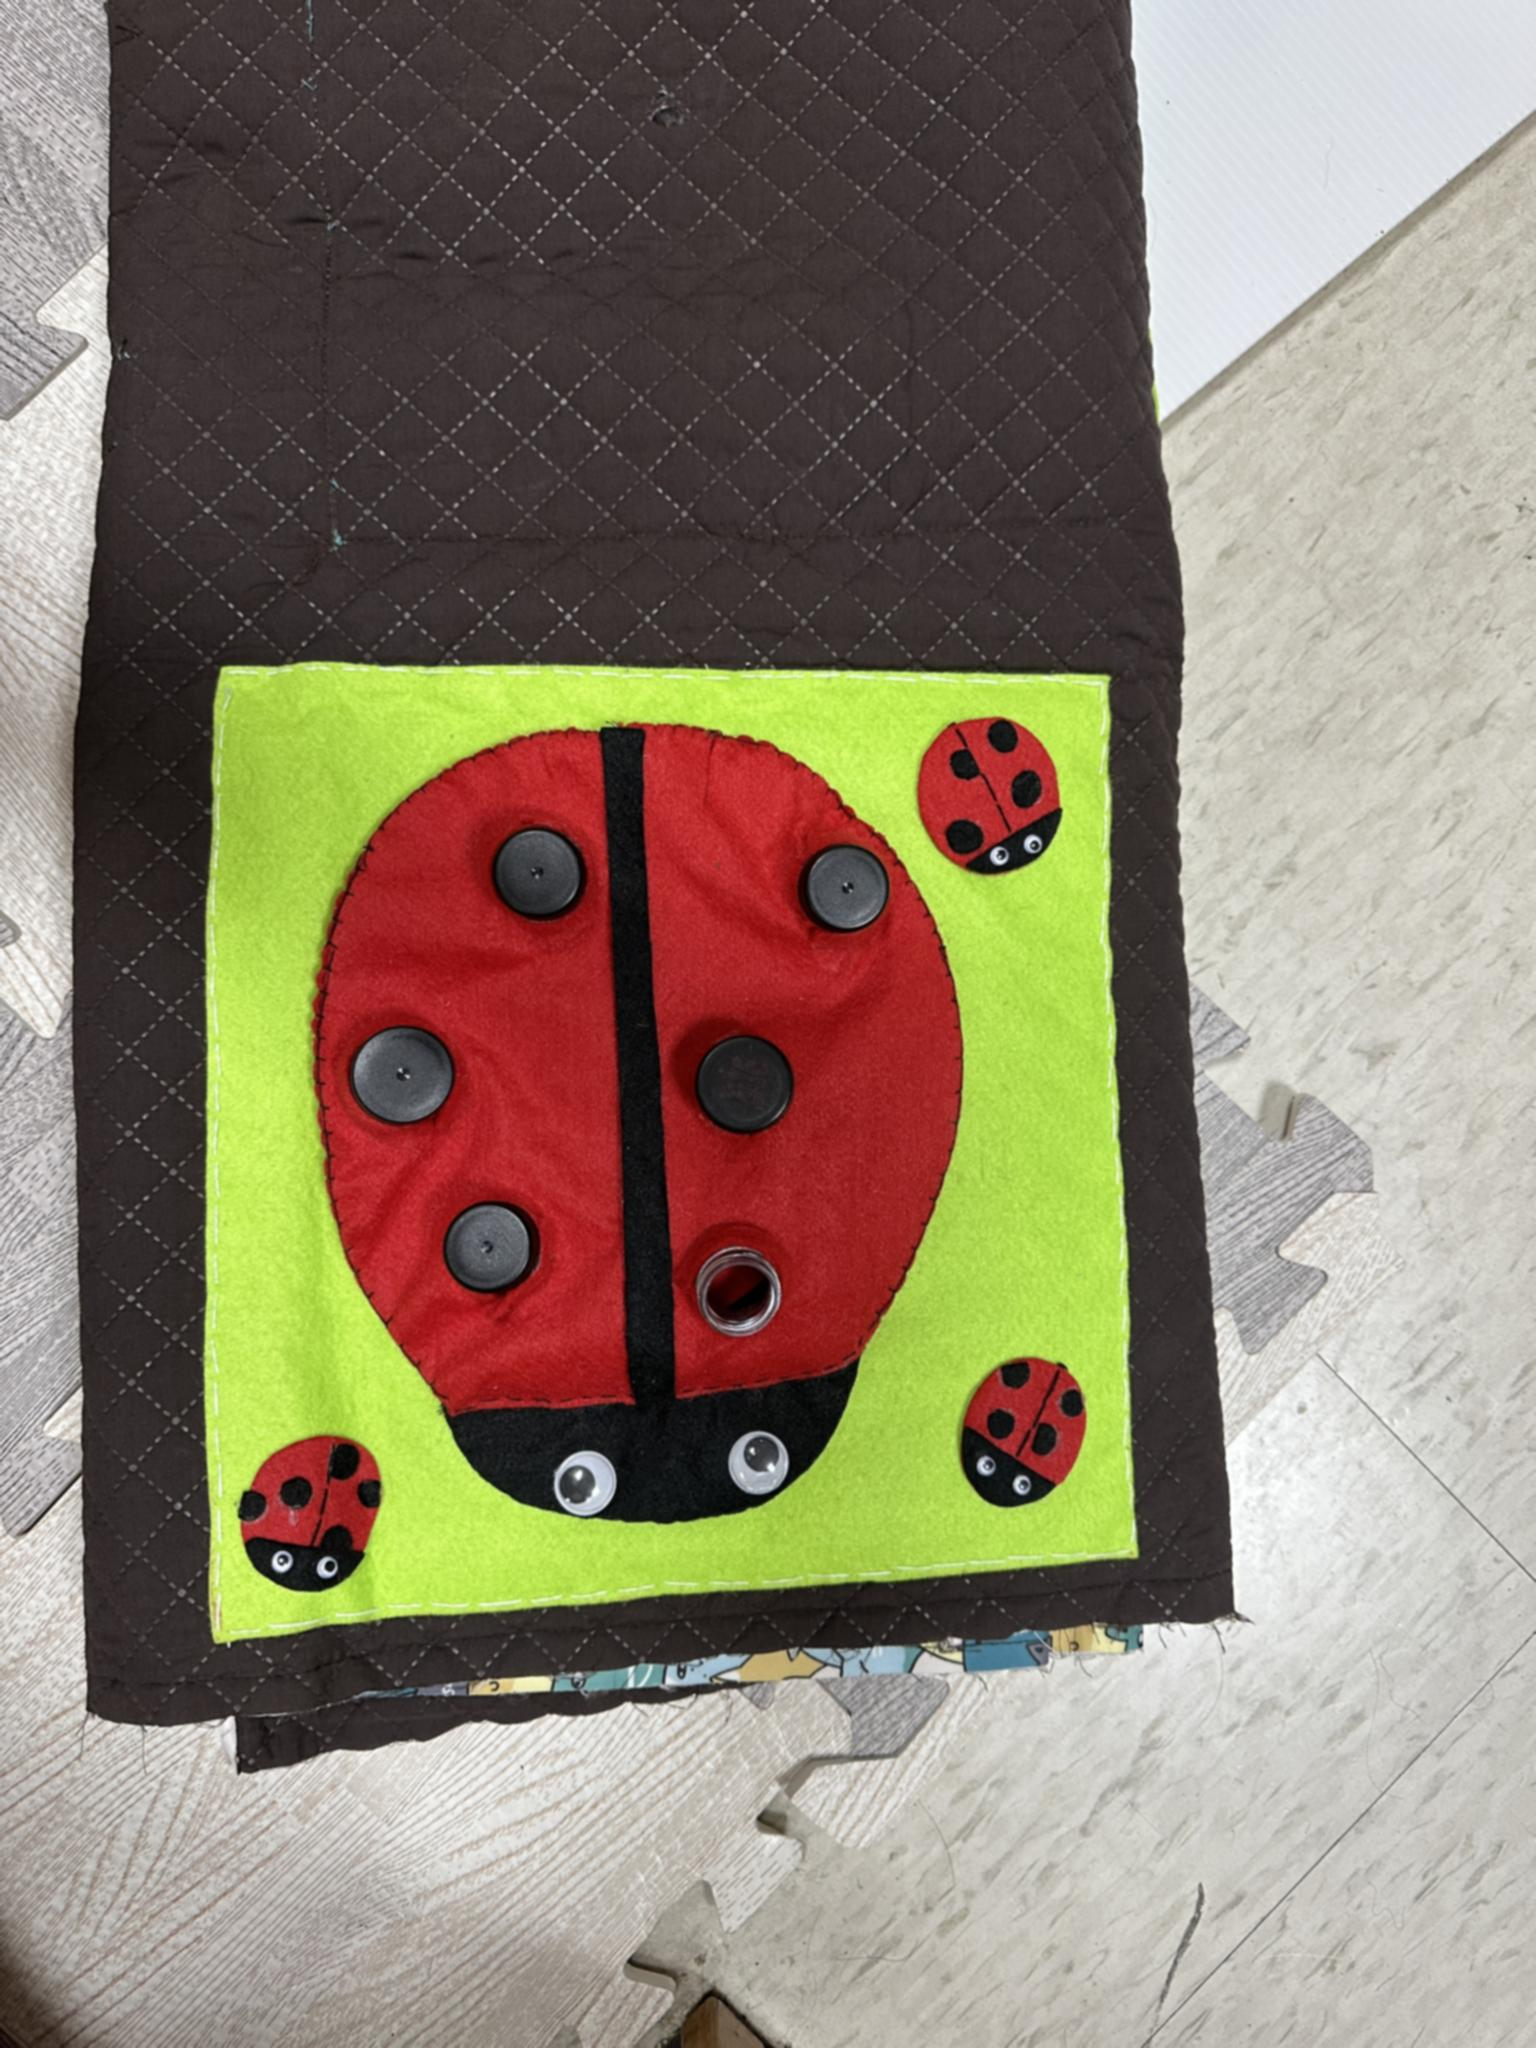cap_ok: (476, 811, 602, 943), (781, 830, 907, 961), (686, 1027, 808, 1153), (342, 1019, 466, 1135), (434, 1198, 555, 1305)
